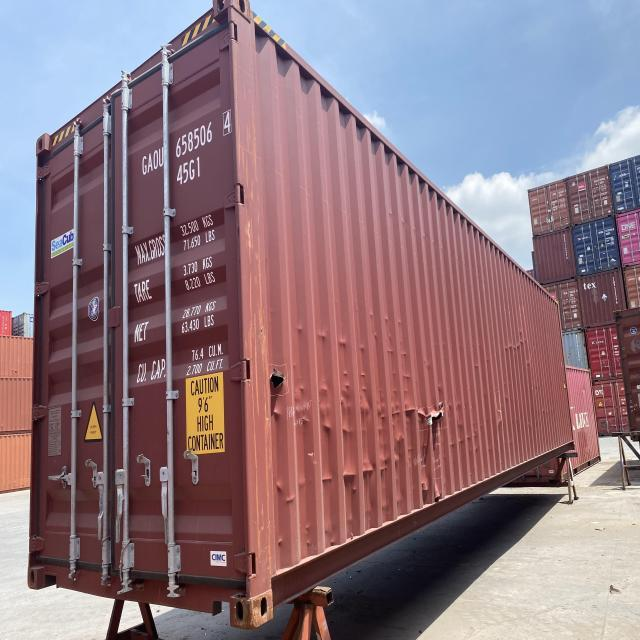hole: (266, 368, 288, 396), (428, 412, 448, 435)
